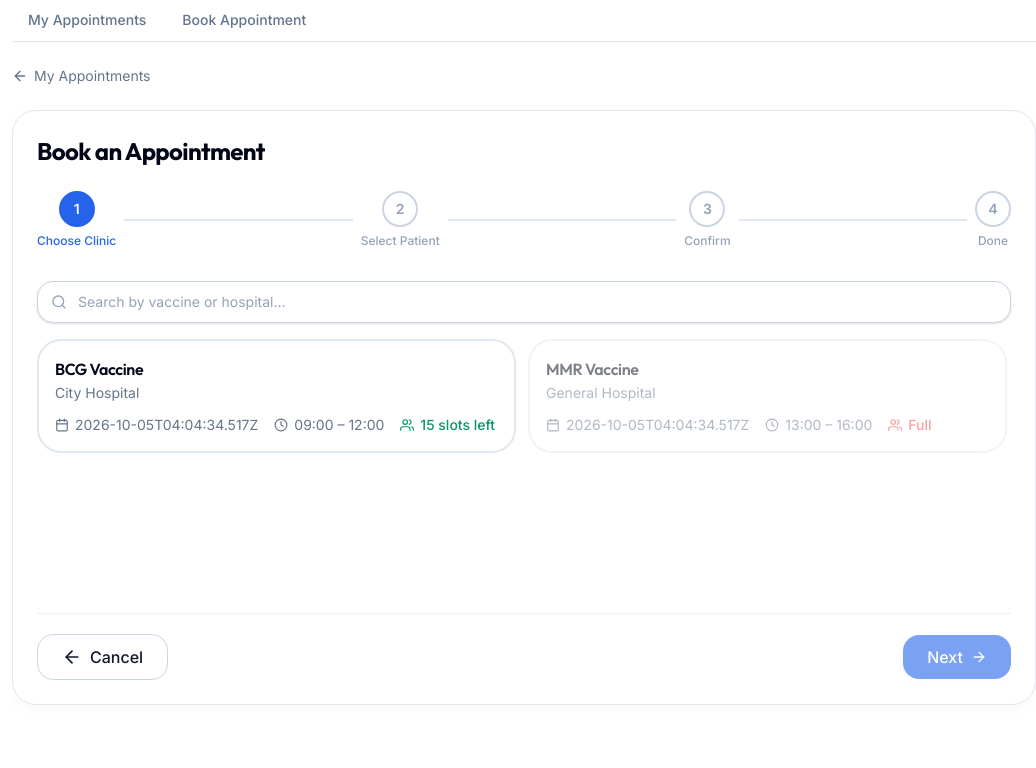
Test: BookAppointmentPage › Next button enables after selecting an available clinic
The width and height of the screenshot is (1036, 768).
Expected: the heading "BCG Vaccine" is shown, 55,359 -> 143,379
Click BCG Vaccine card (not full)
What coordinates should you click on to do the following:
click the button "BCG Vaccine"
I would click on:
 (99, 369)
Its box is 37,339 -> 516,453.
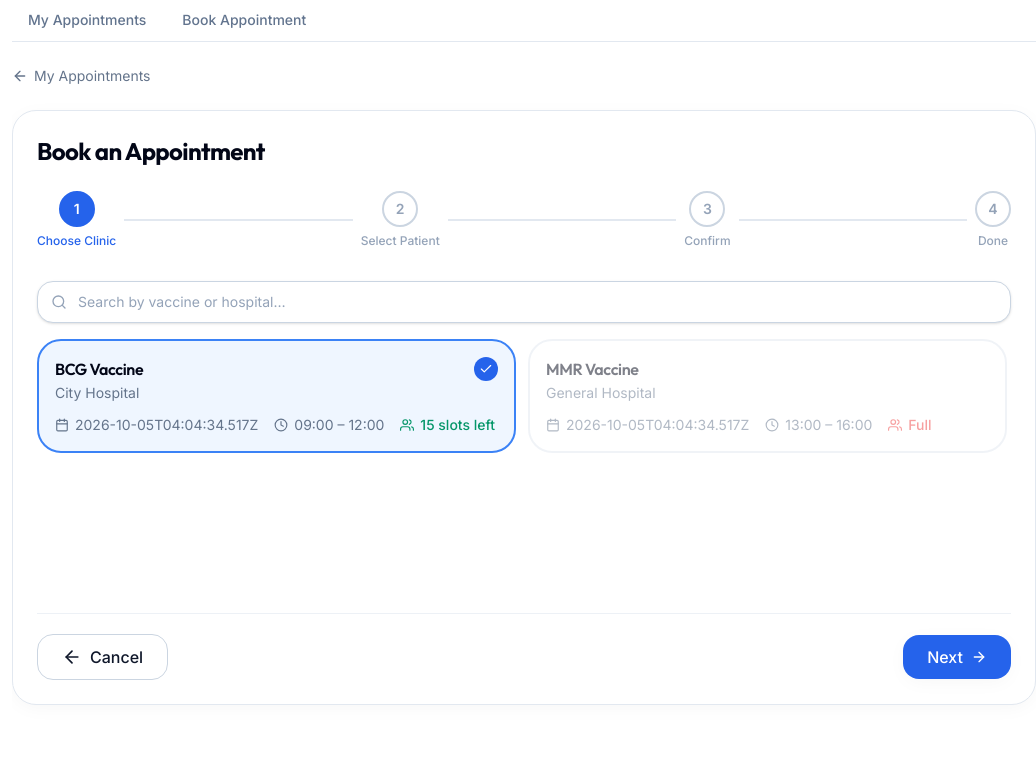
Expected: the button "Next" is enabled, 903,635 -> 1011,679
